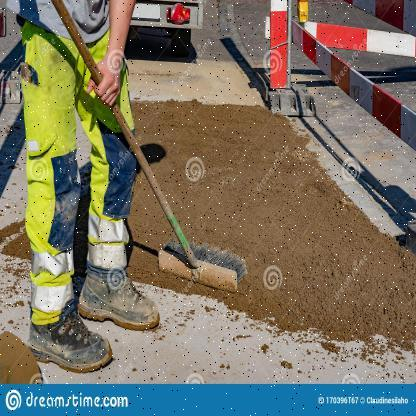bota: (26, 310, 160, 366), (78, 265, 166, 335)
